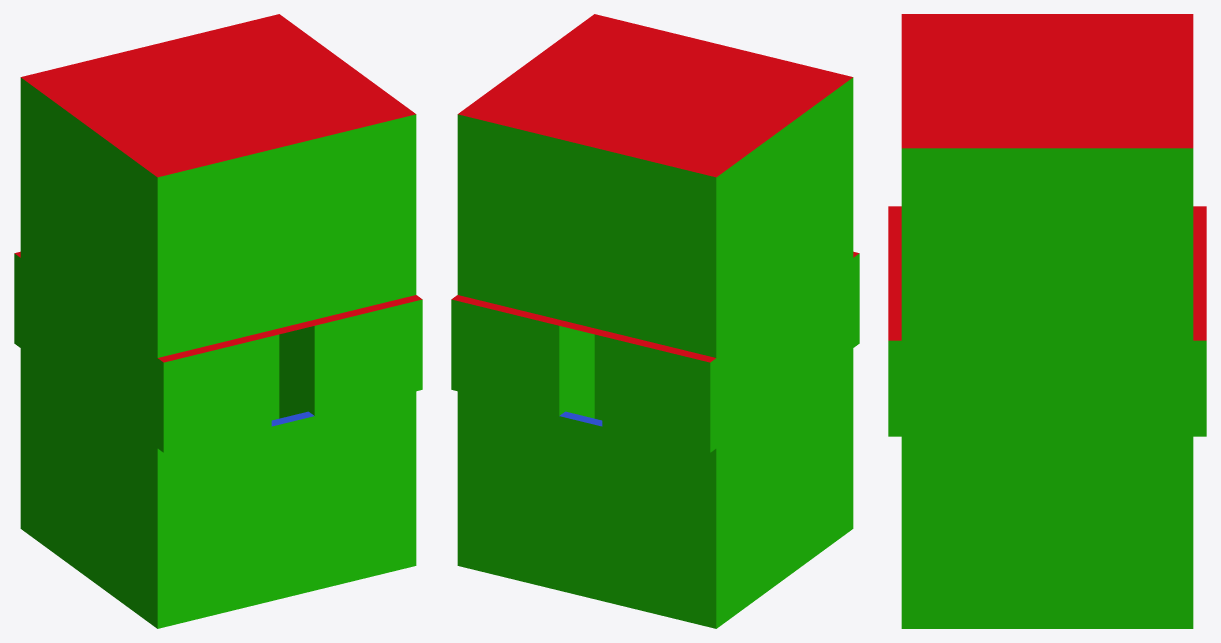
Rendered from 3x3_Room_Deep_and_Tall.fbx.
3 renders of one model, left to right at view 1: azimuth 30°, elevation 25°; view 2: azimuth 150°, elevation 25°; view 3: azimuth 270°, elevation 25°, orthographic. The views are drawn at different scales.
Visible parts, largest first — view 1: 3x3 Room Deep and Tall; view 2: 3x3 Room Deep and Tall; view 3: 3x3 Room Deep and Tall.
Part boxes in pixels (x1,y1,x2,y2): 3x3 Room Deep and Tall: (14, 14, 422, 628); 3x3 Room Deep and Tall: (451, 14, 859, 628); 3x3 Room Deep and Tall: (888, 14, 1206, 628).
Bounding box in the file's own units: 2400 × 4000 × 2400.
